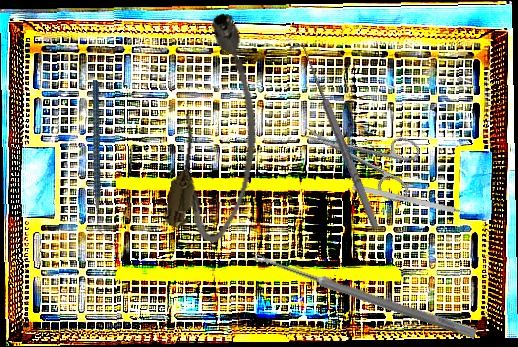Cannula: (162, 9, 277, 247)
Chopper: (48, 79, 153, 239)
Hook Surgical: (288, 39, 383, 233), (351, 183, 478, 219)
Iris Scissors: (294, 100, 427, 206)
Surgical Spoon: (251, 251, 478, 339)
